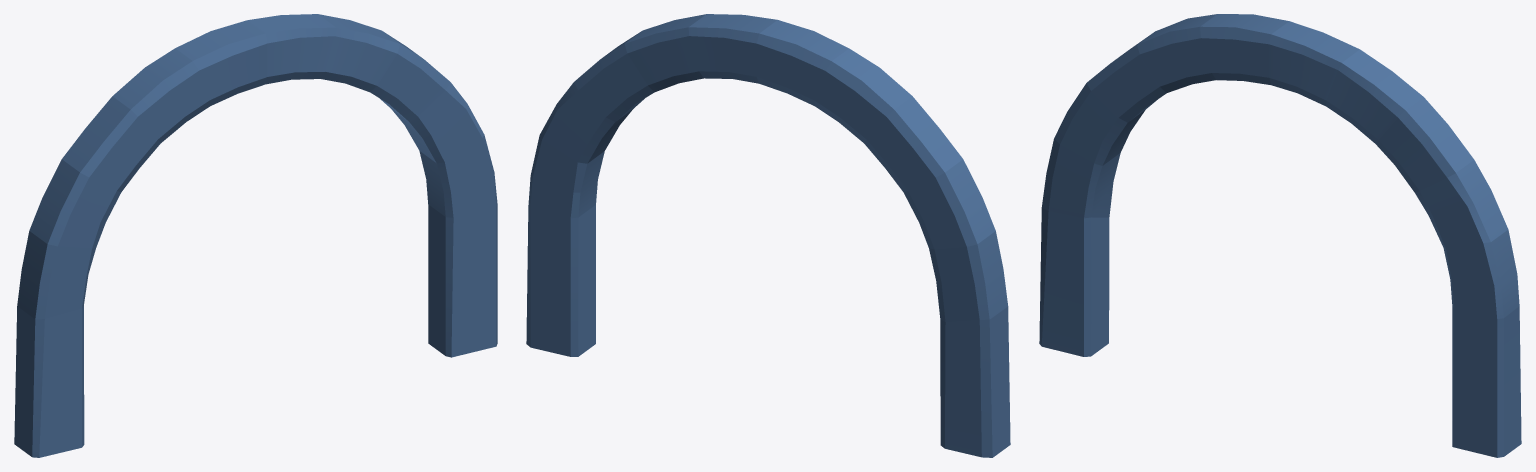
The model's file is Door_Edge_01.fbx.
3 views of the same model, side by side, from view 1: azimuth 30°, elevation 25°; view 2: azimuth 150°, elevation 25°; view 3: azimuth 330°, elevation 25° (orthographic).
Visible parts, largest first — view 1: Door_Edge_01; view 2: Door_Edge_01; view 3: Door_Edge_01.
Part boxes in pixels (x1,y1,x2,y2): Door_Edge_01: (14,14,497,457); Door_Edge_01: (526,14,1010,457); Door_Edge_01: (1039,14,1521,457).
Bounding box in the file's own units: 463 × 349 × 40.34.
